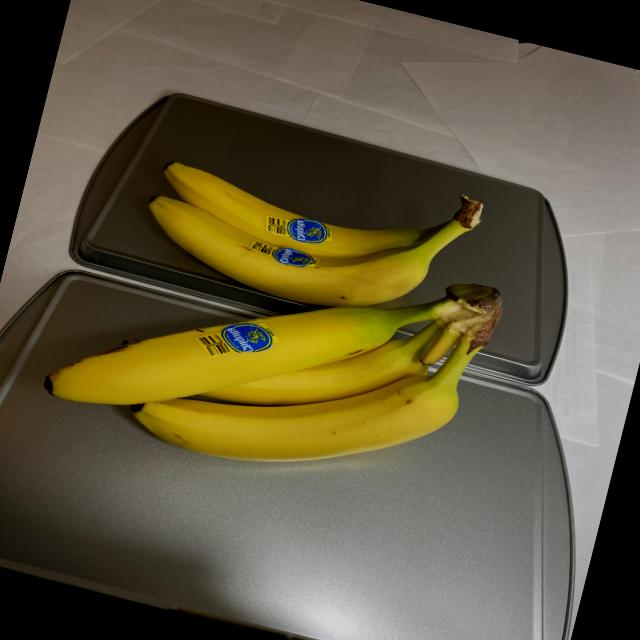banana: (17, 106, 527, 562)
